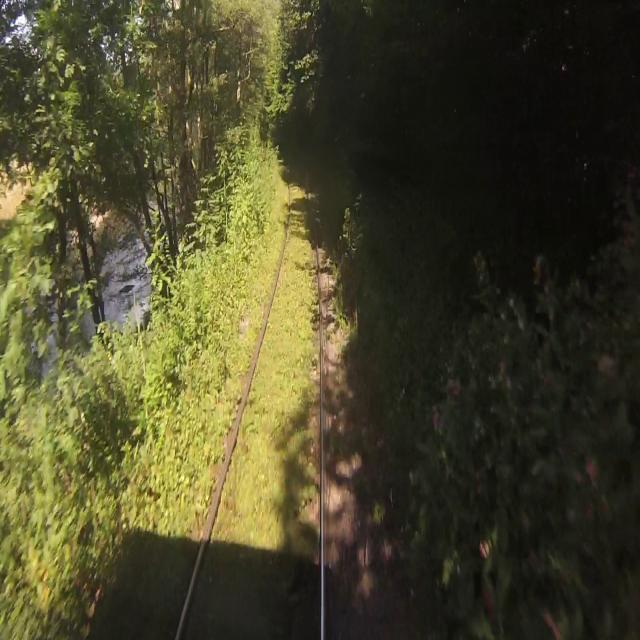Plant: (103, 161, 288, 639), (179, 179, 321, 639), (321, 213, 362, 395), (327, 539, 386, 639)
